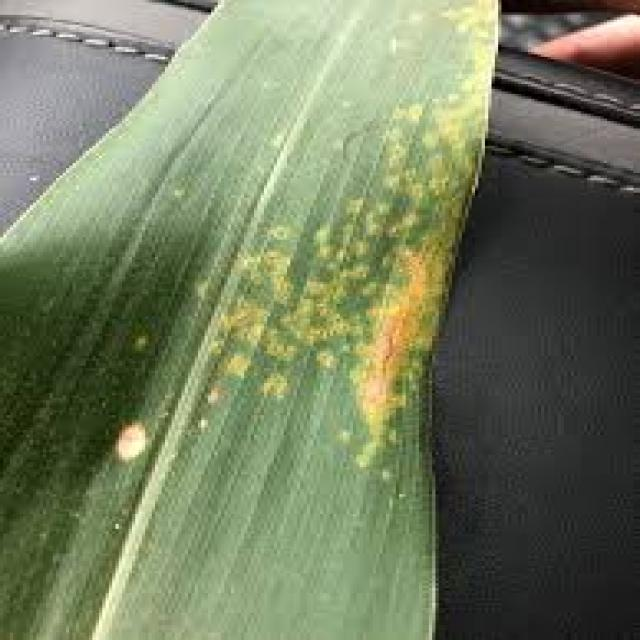Corn_Rust: (117, 0, 530, 509)
